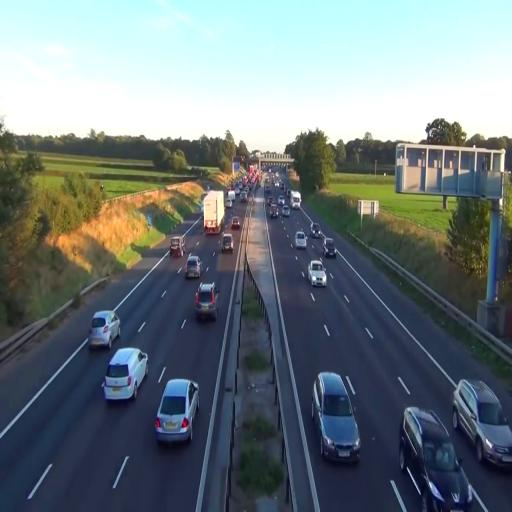vehicle: (400, 406, 472, 511), (452, 377, 512, 468), (312, 370, 362, 464), (155, 377, 200, 446), (102, 347, 148, 401), (88, 310, 121, 351), (202, 190, 224, 236), (194, 282, 218, 323), (203, 190, 224, 236), (308, 259, 327, 287), (184, 255, 204, 280), (221, 232, 234, 252), (294, 230, 307, 249), (323, 240, 336, 258), (231, 216, 242, 233)
